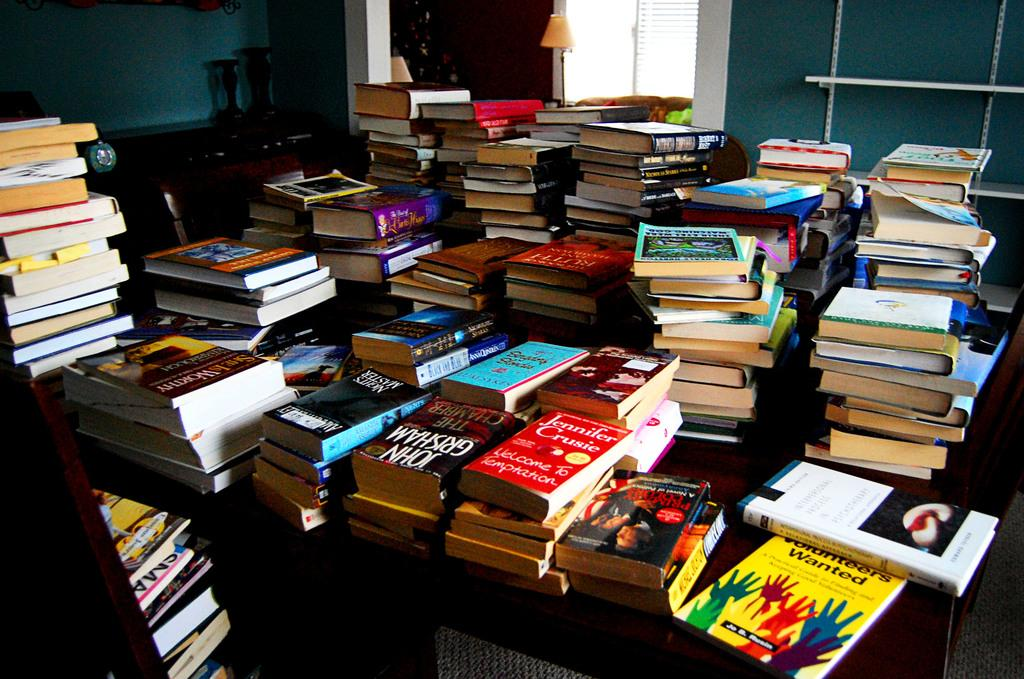Book: (47, 73, 1015, 678), (0, 109, 149, 394), (694, 515, 929, 668), (78, 481, 260, 678)
